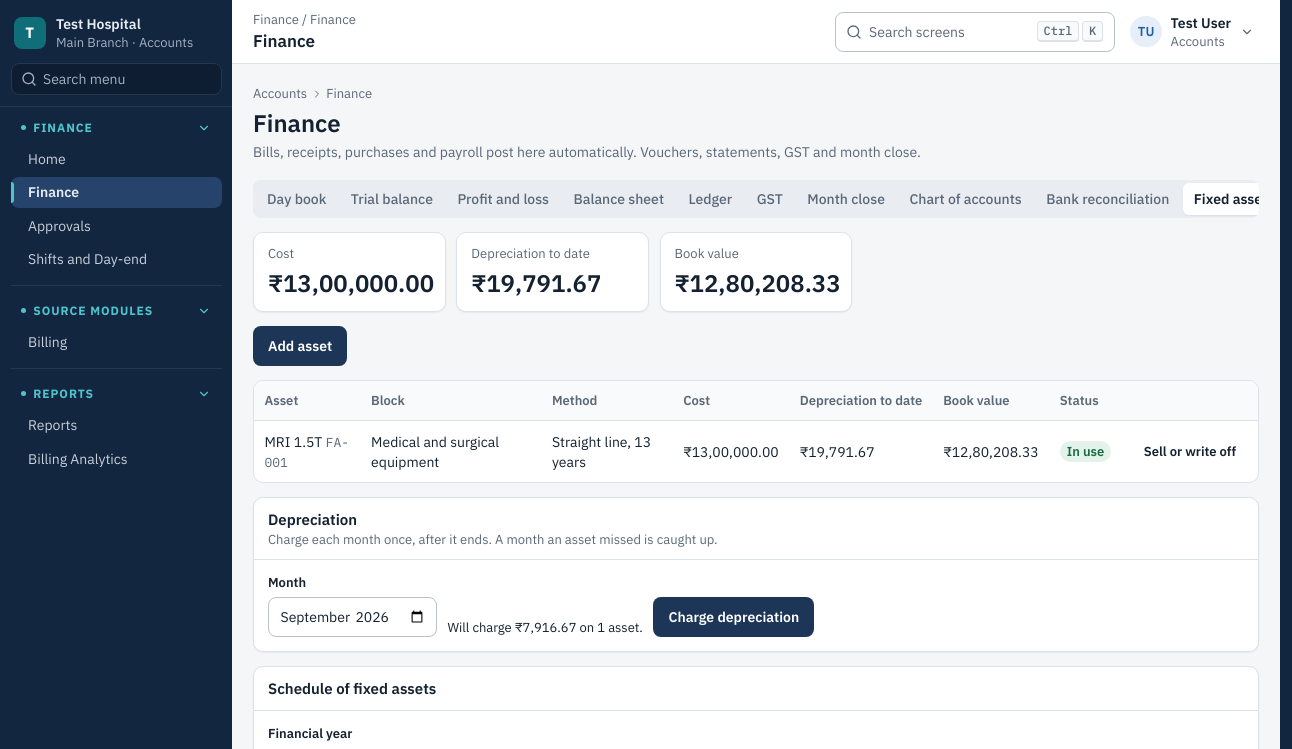
Test case: Fixed assets › shows the register and charges a month’s depreciation
Check: the text "MRI 1.5T" shows "Straight line, 13 years", box [552, 432, 651, 470]
Check: the text "MRI 1.5T" shows "12,80,208.33", box [943, 442, 1039, 460]
Step 1. Click the button "Charge depreciation" → (734, 617), box [653, 597, 814, 637]
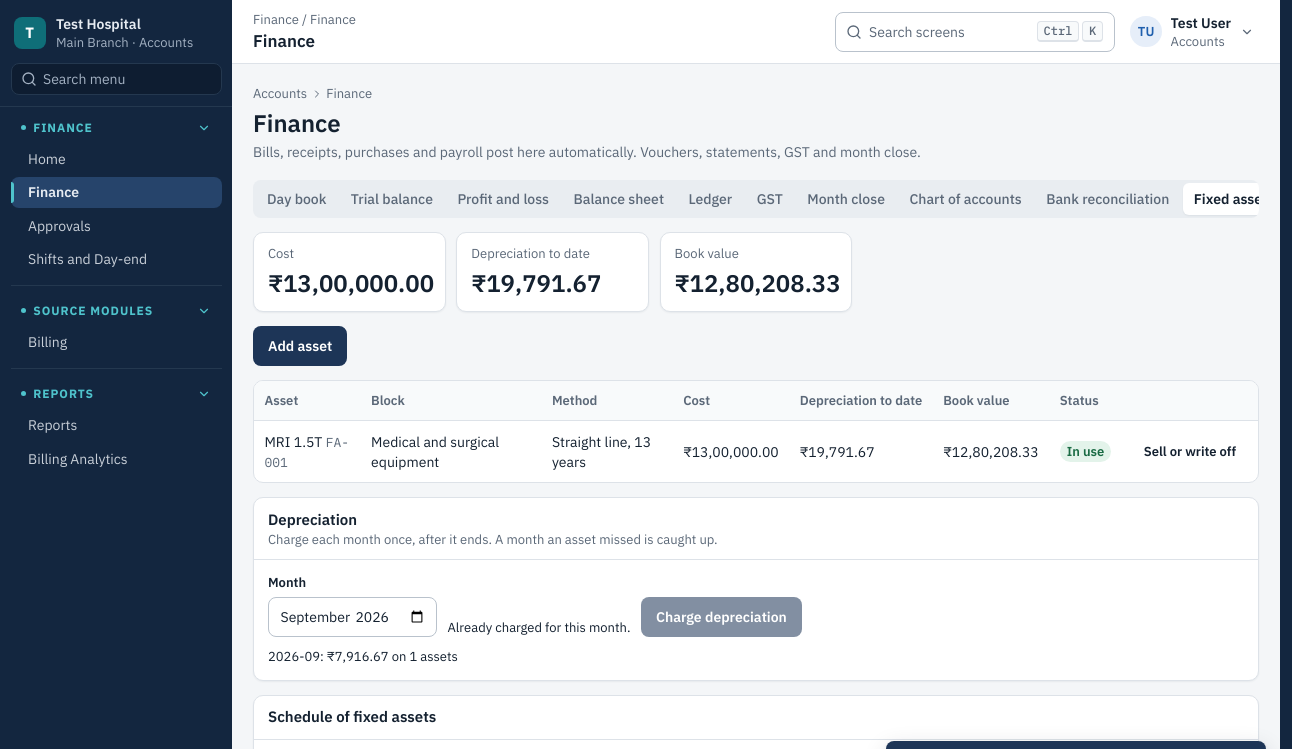
Check: the text "Already charged for this month." is shown, box [448, 619, 630, 637]
